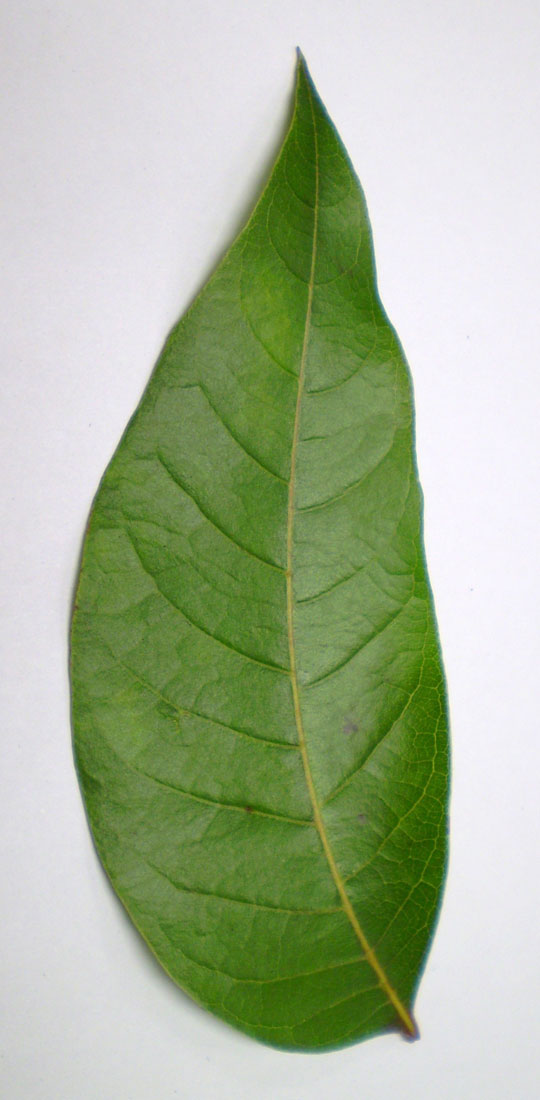healthy: (84, 48, 481, 1036)
